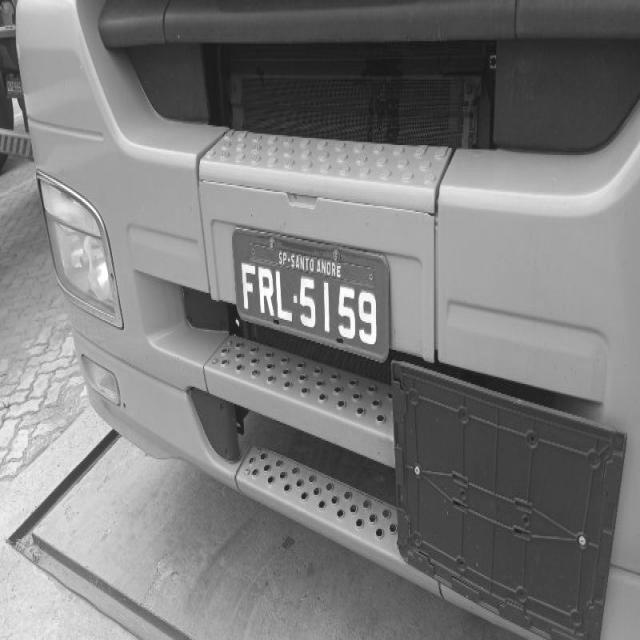placa_antiga: (236, 230, 390, 363)
